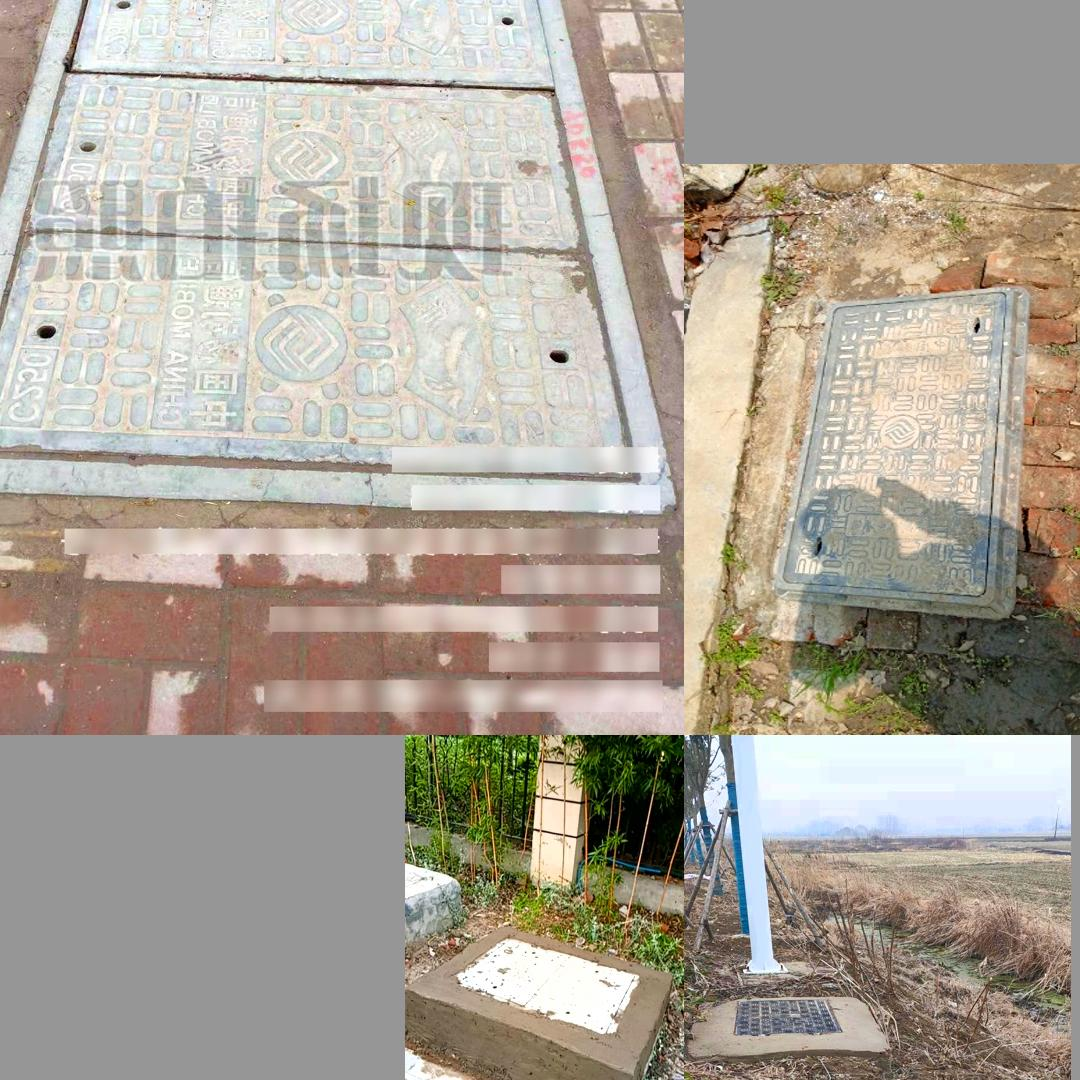good: (0, 0, 677, 513), (763, 288, 1029, 607), (449, 936, 641, 1033), (730, 999, 845, 1037)
